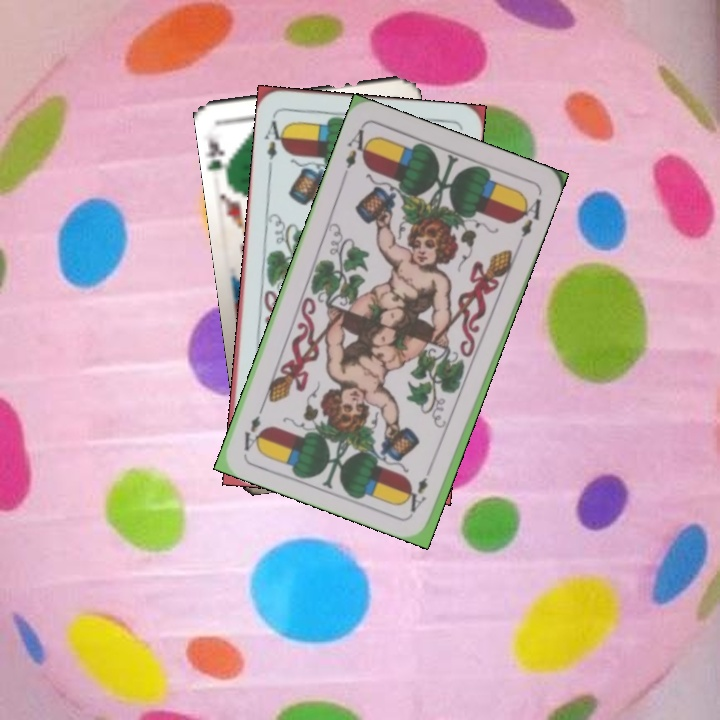EA: (338, 125, 374, 180), (406, 459, 436, 516), (260, 117, 289, 162)
GK: (204, 134, 234, 179)
